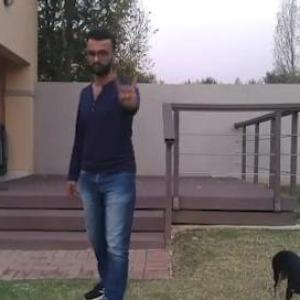takeoff-hand: (112, 60, 149, 112)
